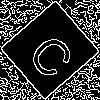C: (25, 25, 84, 83)
